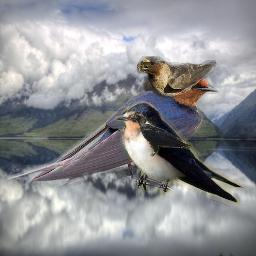Crow: (129, 114, 193, 157)
Swallow: (6, 65, 219, 186), (115, 100, 243, 207), (137, 56, 217, 99)
